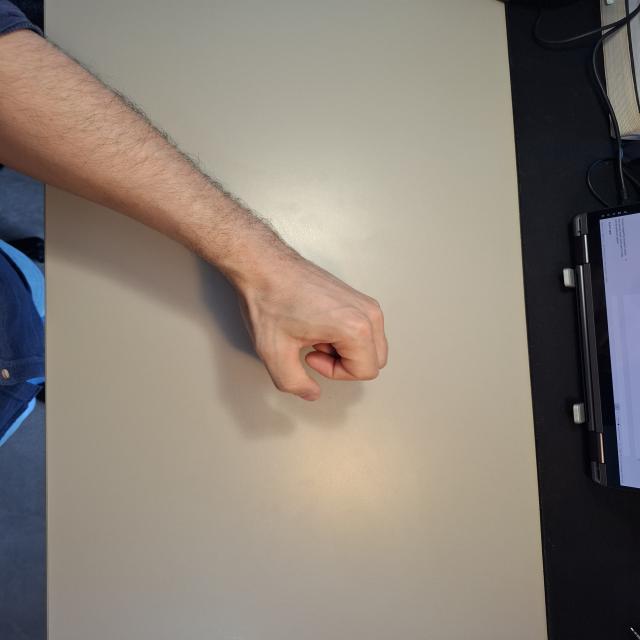glove_off: (234, 251, 392, 404)
